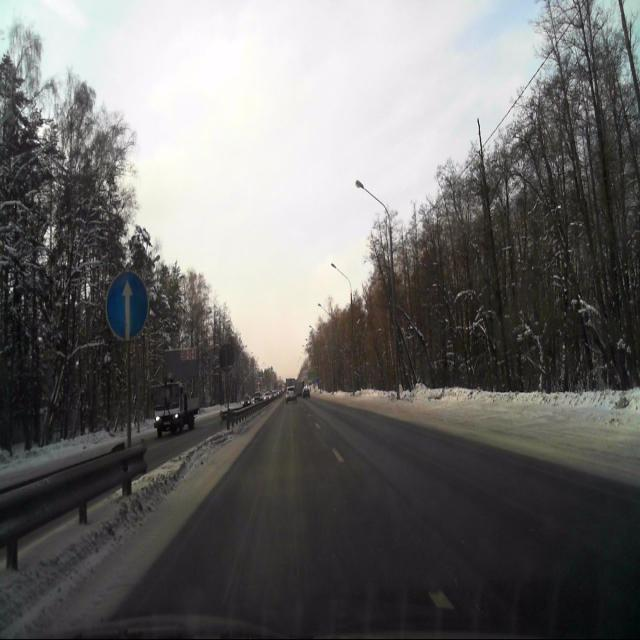road sign: (127, 339, 133, 451)
